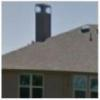chimneys: (34, 2, 54, 45)
